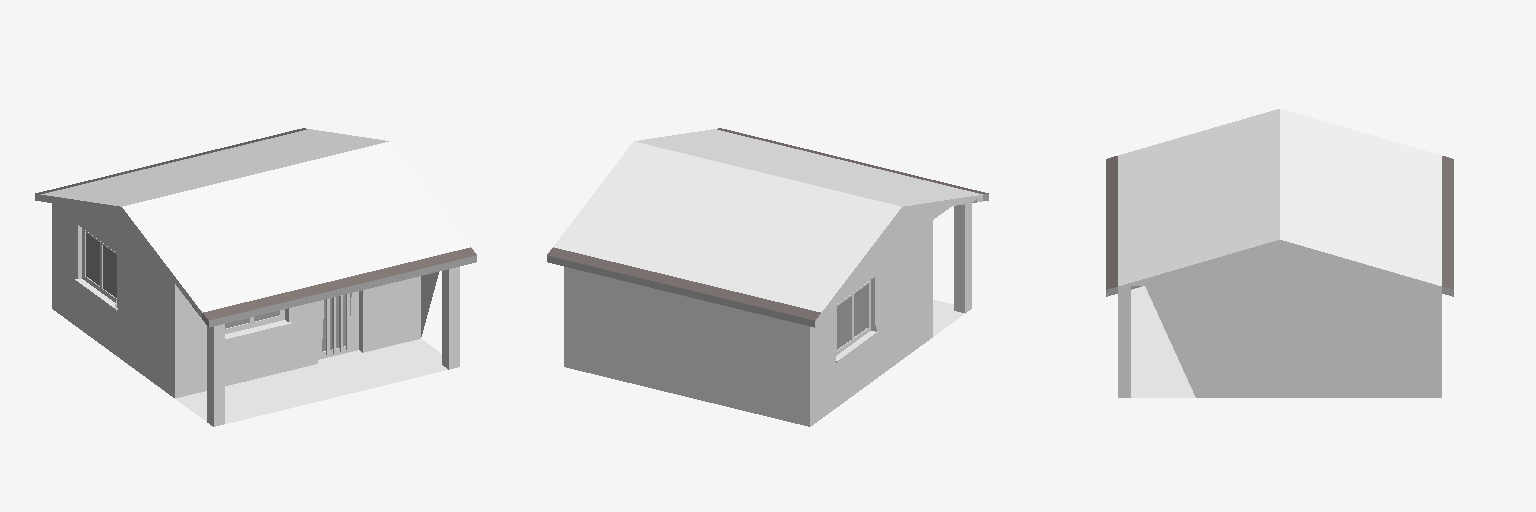
File: House.obj
3 views of the same model, side by side, from view 1: azimuth 30°, elevation 25°; view 2: azimuth 150°, elevation 25°; view 3: azimuth 270°, elevation 25° (orthographic).
Parts seen in each view (by area): view 1: Mesh1 Bungalow1 Model; view 2: Mesh1 Bungalow1 Model; view 3: Mesh1 Bungalow1 Model.
Part boxes in pixels (x1,y1,x2,y2): Mesh1 Bungalow1 Model: (35,128,476,426); Mesh1 Bungalow1 Model: (547,128,988,426); Mesh1 Bungalow1 Model: (1106,109,1453,397).
Size of the model in its own units: 600 by 350 by 673.